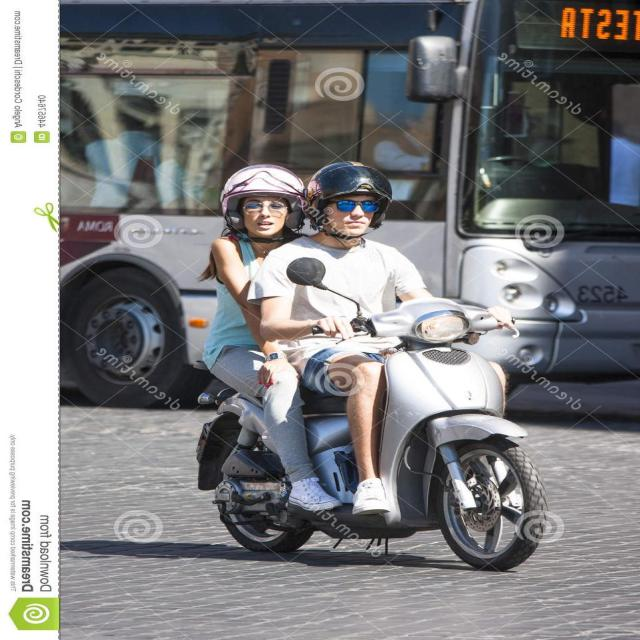helmet: (211, 159, 302, 242), (308, 152, 384, 237)
